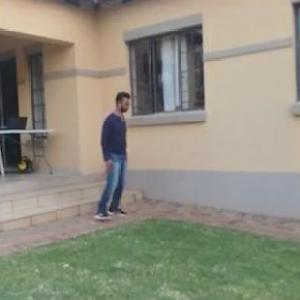follow: (102, 90, 138, 216)
